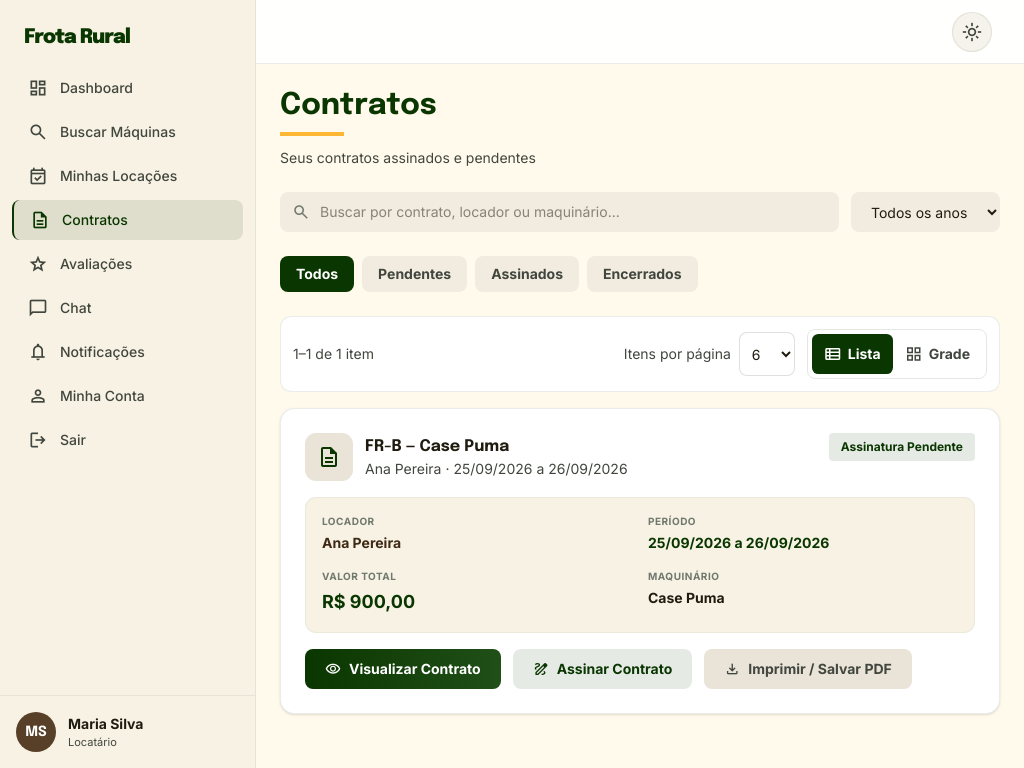
Test: offers signature recovery for a pending contract and filters closed contracts
Expected: the button "Assinar Contrato" is shown, x1=513 y1=649 x2=692 y2=689
Step 1. Click the button "Encerrados" → (642, 274), box x1=587 y1=256 x2=698 y2=292
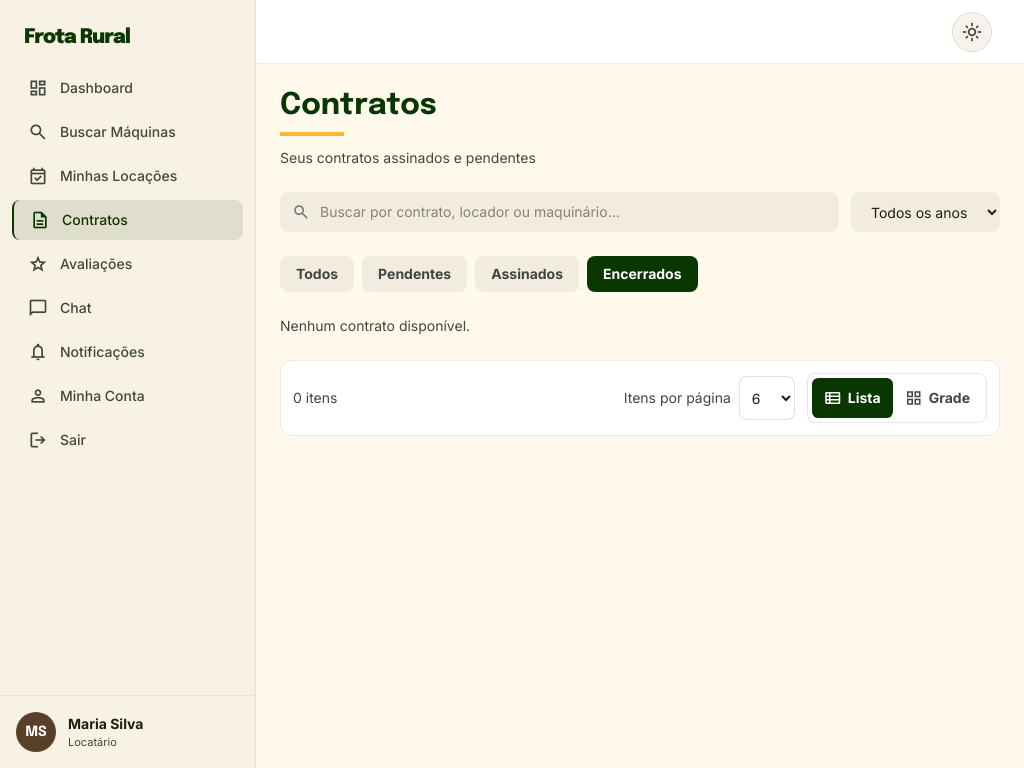
Expected: the heading "FR-B — Case Puma" is gone
Expected: the text "Nenhum contrato disponível." is shown, x1=280 y1=317 x2=470 y2=334
